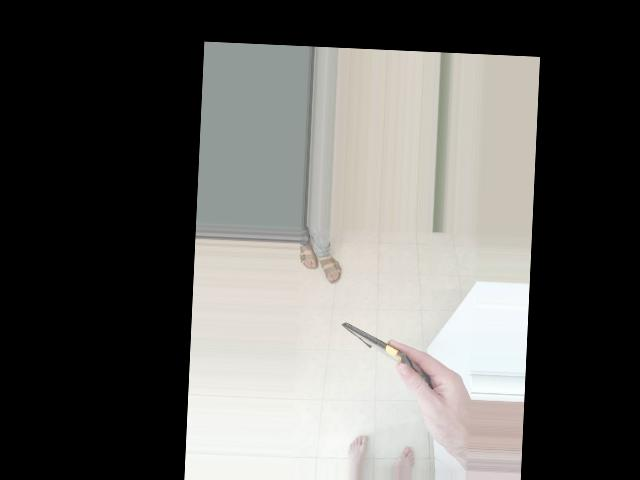chocolate: (301, 270, 384, 374)
